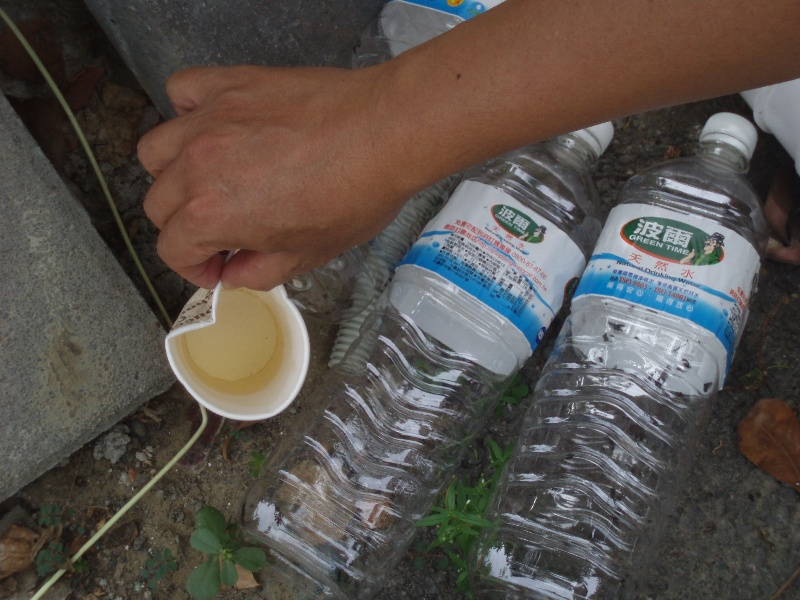bottle: (243, 120, 615, 600), (467, 111, 762, 600), (164, 283, 311, 421)
